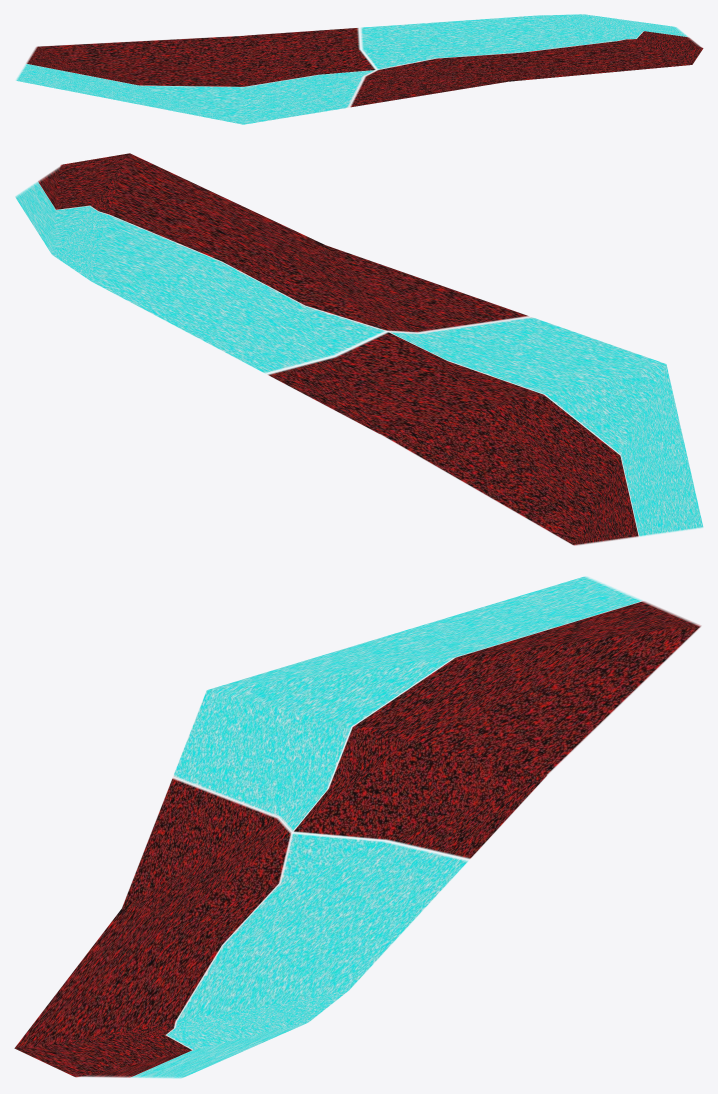
3 views of the same model, one above another, from view 1: azimuth 30°, elevation 25°; view 2: azimuth 150°, elevation 25°; view 3: azimuth 270°, elevation 25° (orthographic). The views are drawn at different scales.
Parts seen in each view (by area): view 1: SM_VFX_GF_River08_LOD0; view 2: SM_VFX_GF_River08_LOD0; view 3: SM_VFX_GF_River08_LOD0.
Boxes of the visible parts, x1,y1,x2,y2 form: SM_VFX_GF_River08_LOD0: (16,14,703,124); SM_VFX_GF_River08_LOD0: (15,153,703,545); SM_VFX_GF_River08_LOD0: (14,576,700,1078).
Bounding box in the file's own units: 85.38 × 0.3335 × 49.59.
1 material, 1 textured.
